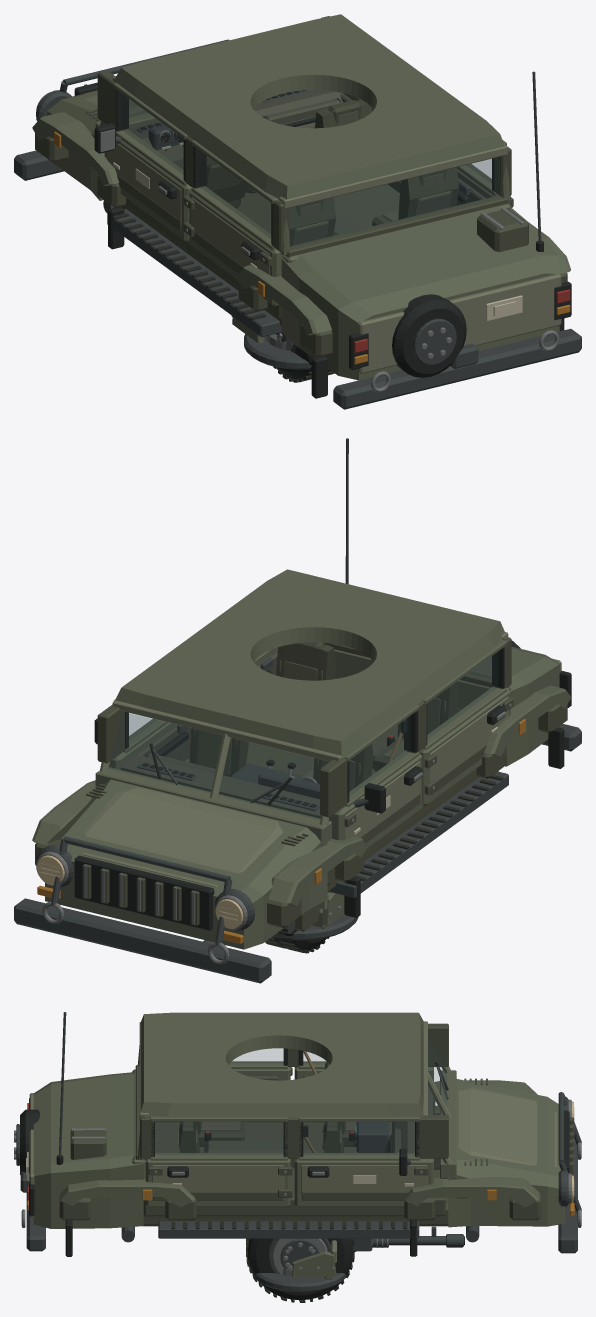
The model's file is humvee.glb.
The picture shows the model from 3 angles, top to bottom: view 1: azimuth 30°, elevation 25°; view 2: azimuth 150°, elevation 25°; view 3: azimuth 270°, elevation 25°; orthographic projection. The views are drawn at different scales.
Parts seen in each view (by area): view 1: BodyPaint, Chassis, Cabin, glass2, ExteriorDetail, CabinDetail, glass4, glass3, Turret, Wheel; view 2: BodyPaint, Chassis, Cabin, ExteriorDetail, glass1, glass0, glass4, glass3, CabinDetail, Turret; view 3: BodyPaint, Chassis, Cabin, ExteriorDetail, glass6, glass5, Wheel, Turret, GunVisual, WheelLow, CabinDetail, glass4 (+1 smaller).
Boxes of the visible parts, <box> form: BodyPaint: <box>32,14,570,380</box>; Chassis: <box>14,71,581,409</box>; Cabin: <box>125,90,485,319</box>; glass2: <box>290,157,500,247</box>; ExteriorDetail: <box>59,39,559,392</box>; CabinDetail: <box>137,90,470,245</box>; glass4: <box>200,152,270,238</box>; glass3: <box>122,95,183,173</box>; Turret: <box>231,315,311,369</box>; Wheel: <box>273,332,334,382</box>; BodyPaint: <box>32,569,570,949</box>; Chassis: <box>14,438,581,983</box>; Cabin: <box>120,642,506,884</box>; ExteriorDetail: <box>40,697,513,964</box>; glass1: <box>109,712,222,792</box>; glass0: <box>219,738,328,819</box>; glass4: <box>427,652,497,738</box>; glass3: <box>349,716,410,795</box>; CabinDetail: <box>137,658,445,811</box>; Turret: <box>272,892,358,940</box>; BodyPaint: <box>29,1012,565,1228</box>; Chassis: <box>16,1012,577,1256</box>; Cabin: <box>143,1062,445,1217</box>; ExteriorDetail: <box>14,1062,581,1229</box>; glass6: <box>155,1122,283,1154</box>; glass5: <box>303,1122,414,1154</box>; Wheel: <box>246,1238,354,1302</box>; Turret: <box>252,1240,346,1292</box>; GunVisual: <box>353,1226,464,1251</box>; WheelLow: <box>246,1238,354,1302</box>; CabinDetail: <box>178,1051,392,1152</box>; glass4: <box>231,1048,283,1062</box>.
Bounding box in the file's own units: 2.53 × 3.2 × 5.11.
